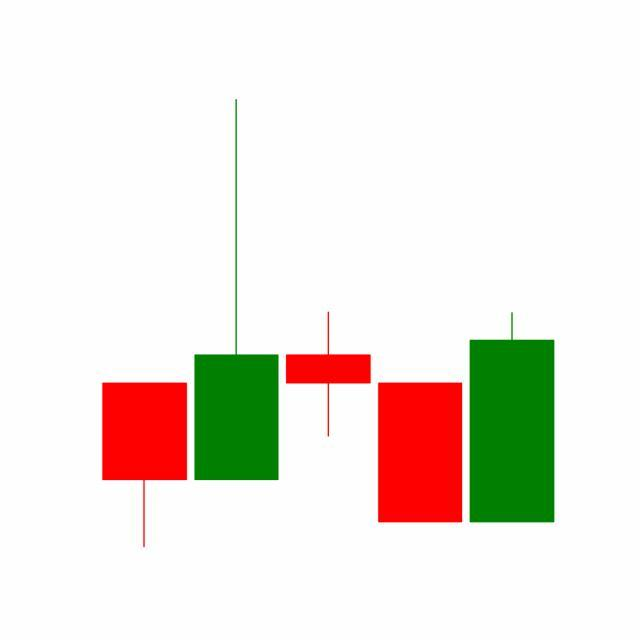Marubozu: (374, 381, 468, 524)
